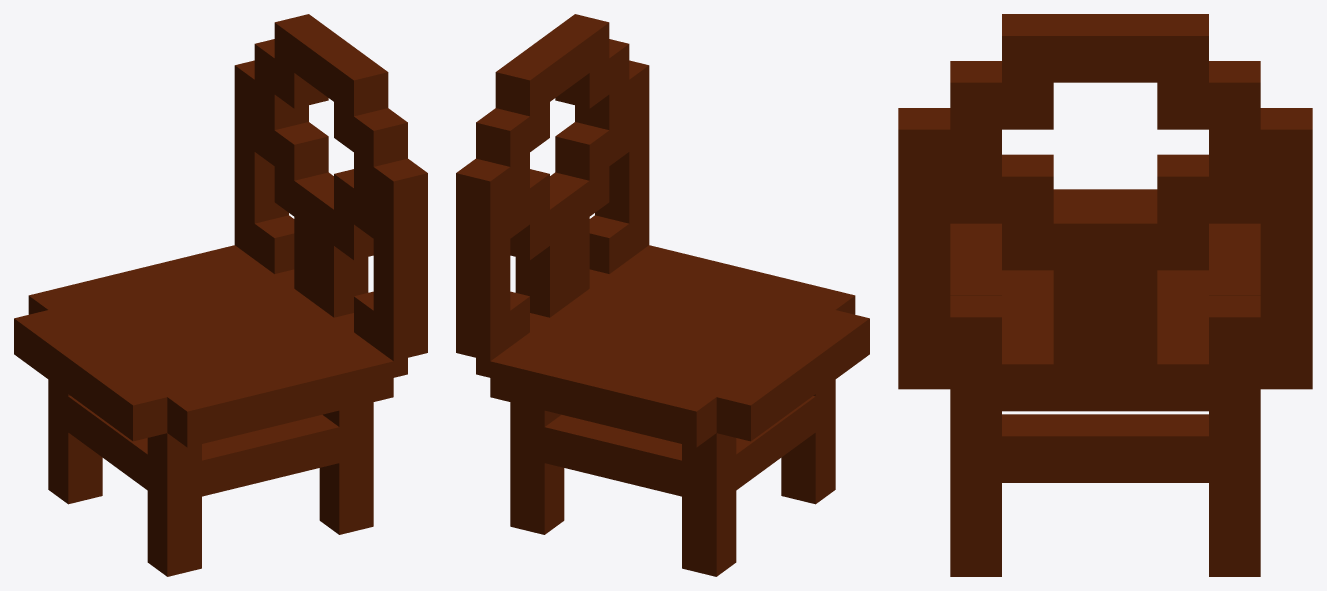
Rendered from chair.obj.
3 renders of one model, left to right at view 1: azimuth 30°, elevation 25°; view 2: azimuth 150°, elevation 25°; view 3: azimuth 270°, elevation 25°, orthographic. The views are drawn at different scales.
Bounding box in the file's own units: 8 × 12 × 8.
1 material, 1 textured.
